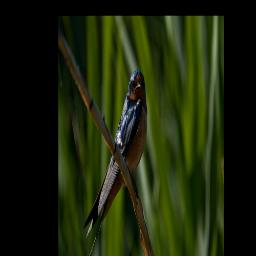Swallow: (82, 69, 148, 256)
